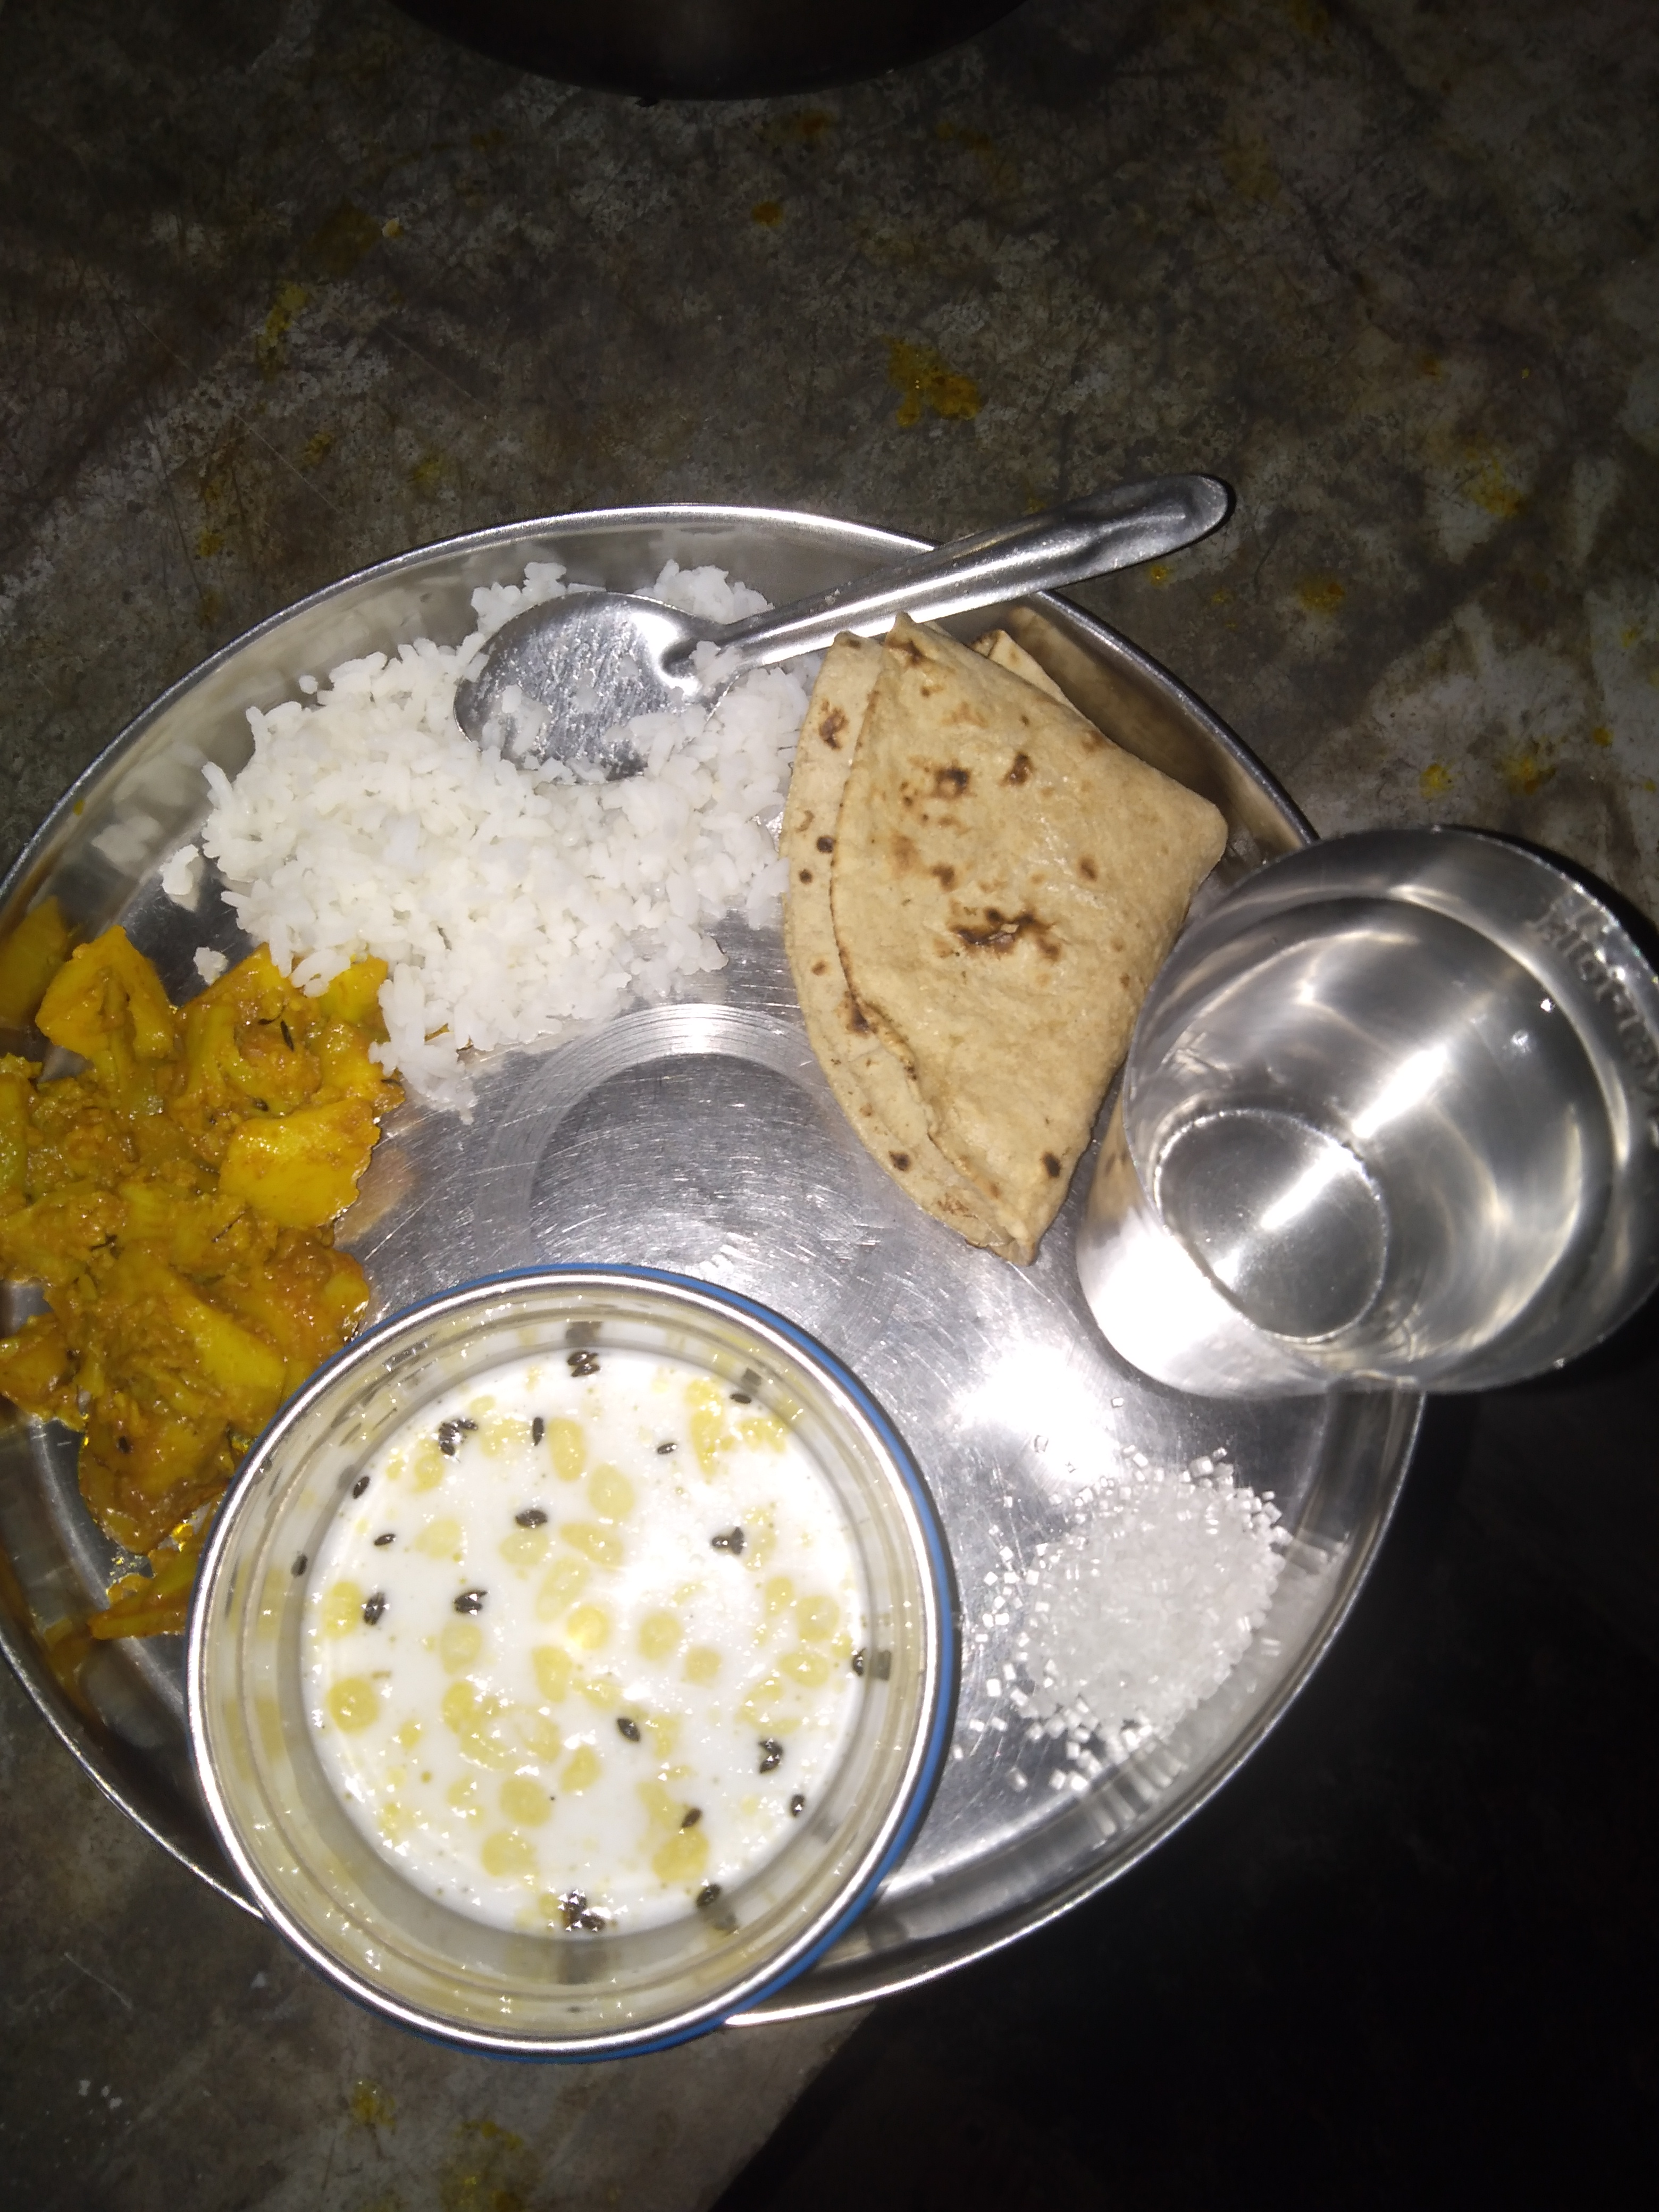food: (0, 491, 1659, 2076)
